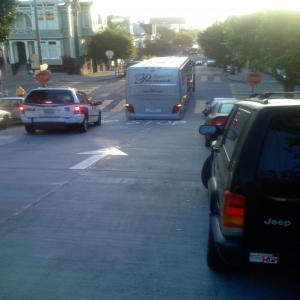Vehicle-registration-plate: (146, 109, 162, 113), (44, 110, 56, 115)
